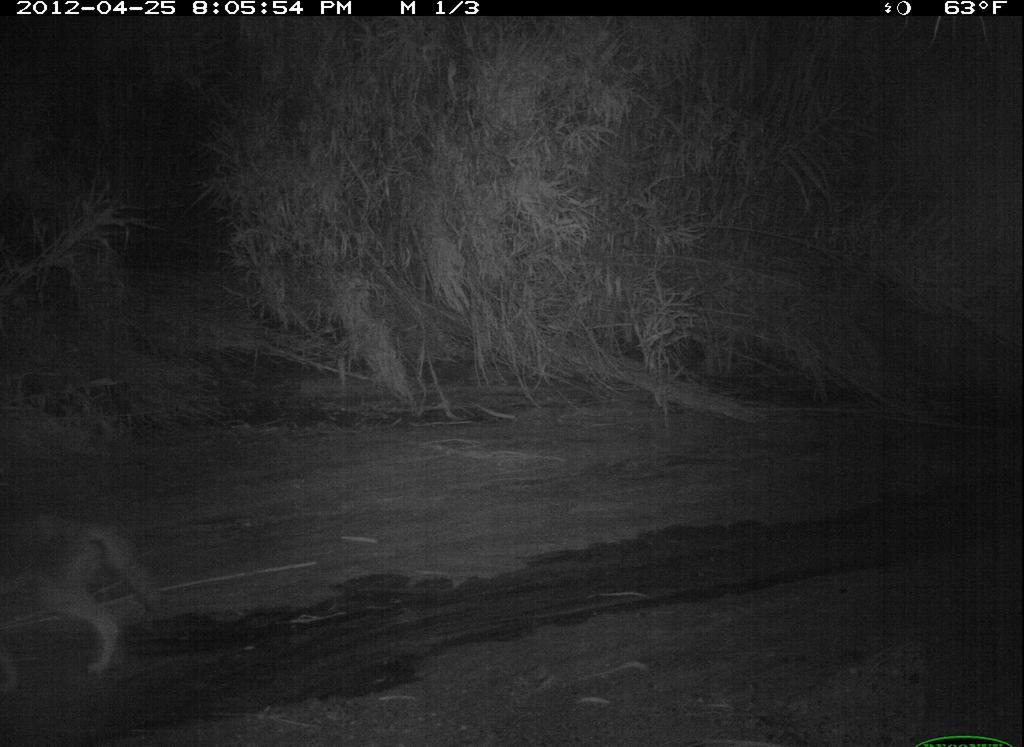coyote: (12, 470, 176, 703)
